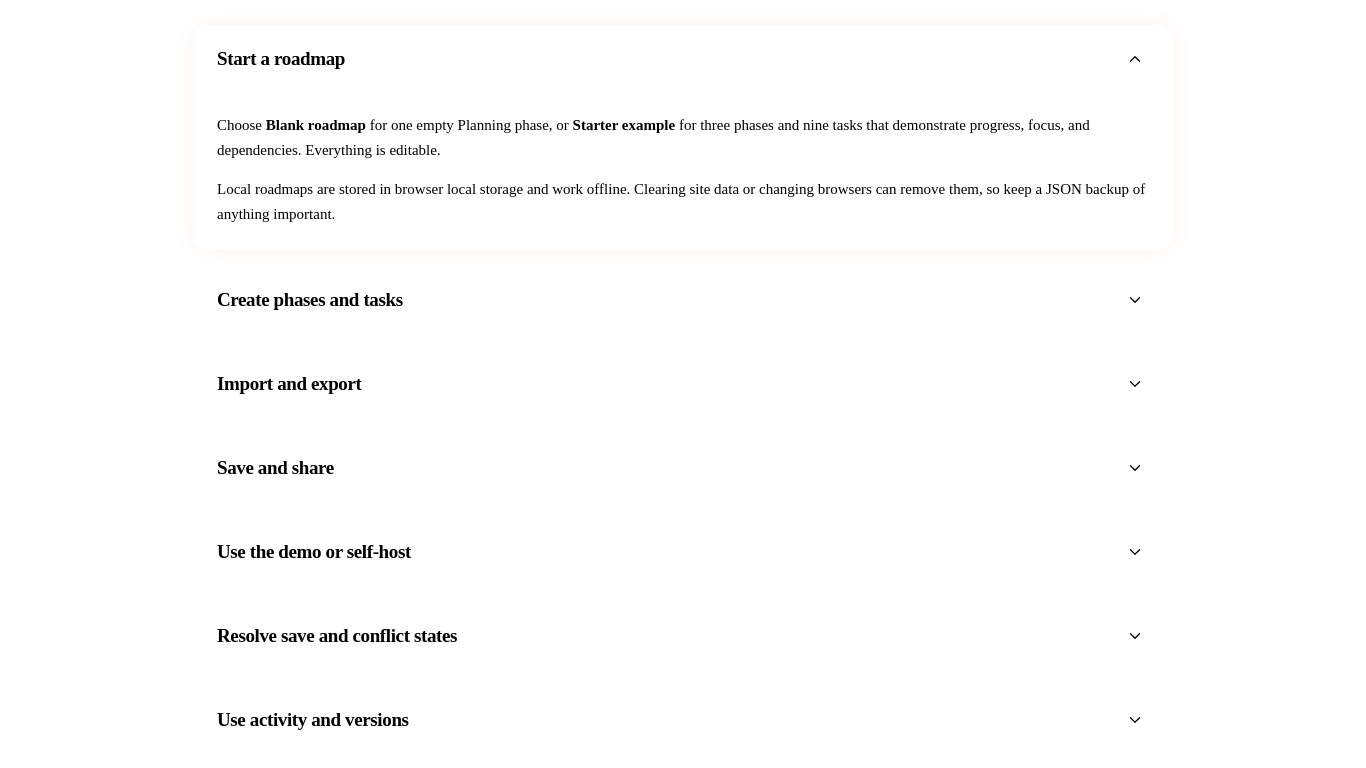
Test: Help Page Accordions › supports keyboard activation via Enter/Space
(page scrolled)
Click the button with id "help-header-portable".
click(289, 384)  # box 193,350 -> 1173,418
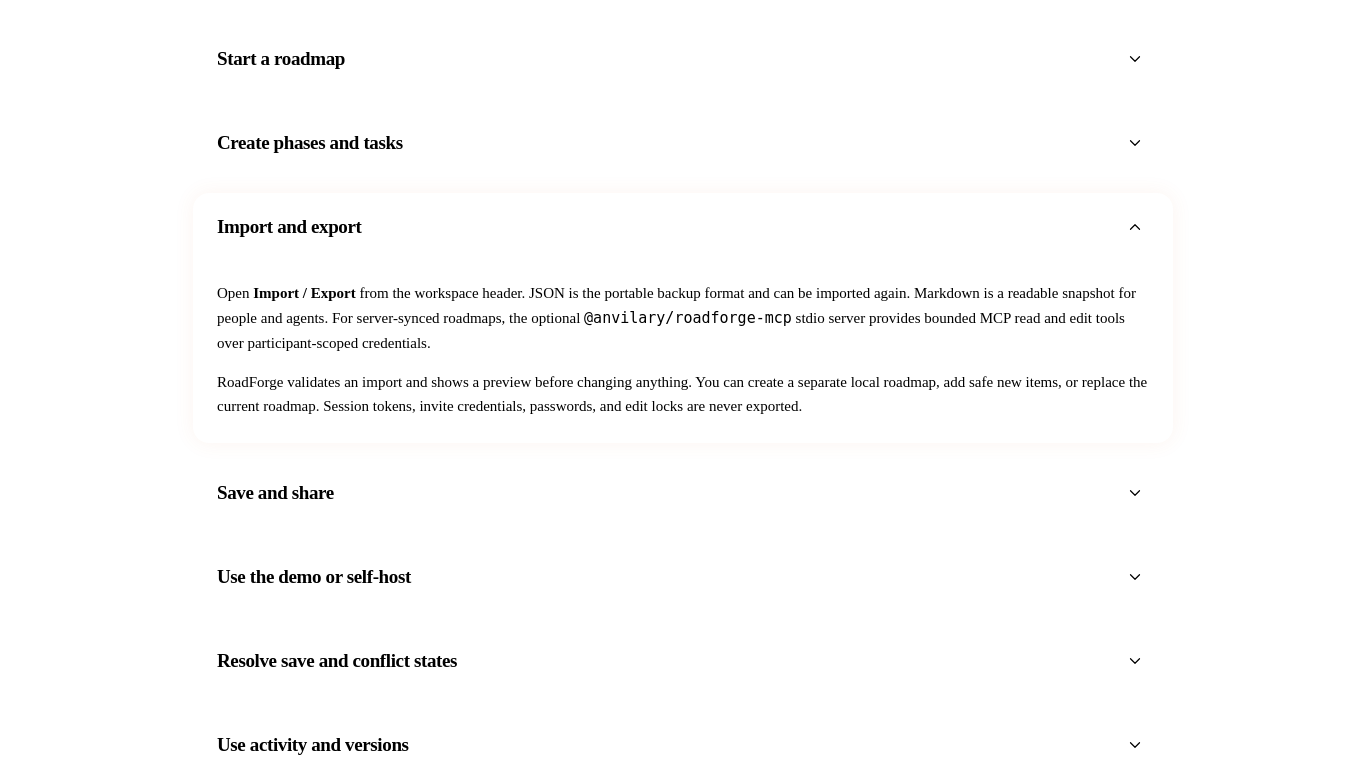
Result: the element that starts with "Import and export" has class "expanded" at 193,193 -> 1173,443
